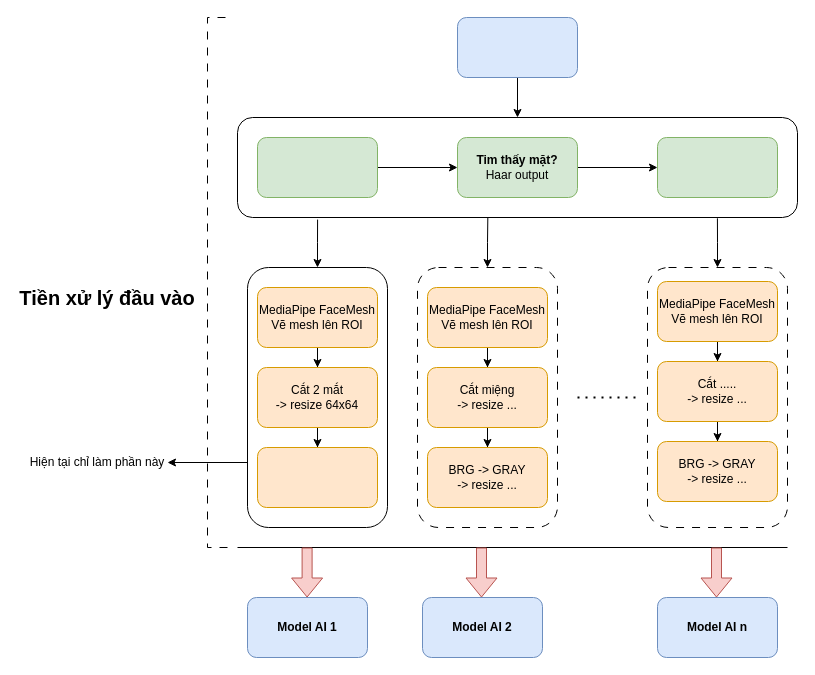
The diagram is 815 pixels wide and 675 high, and some of its shapes have lost their labels. The centre of each missing label's shape, as x and y in pixels:
"BRG -> GRAY -> resize 64x64" belongs at point 317,477.
"Bỏ qua Frame Không có ROI" belongs at point 717,167.
"Haar cascade Detect & crop mặt" belongs at point 317,167.
"Ảnh từ camera" belongs at point 517,47.
